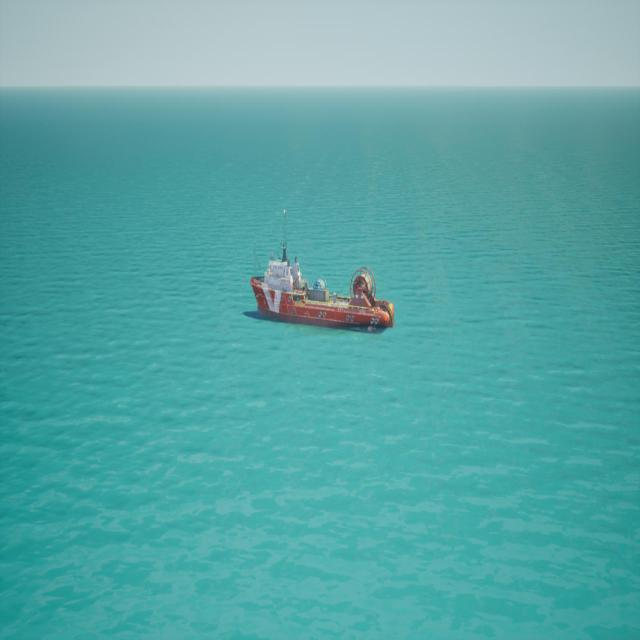tug boat: (247, 209, 397, 338)
